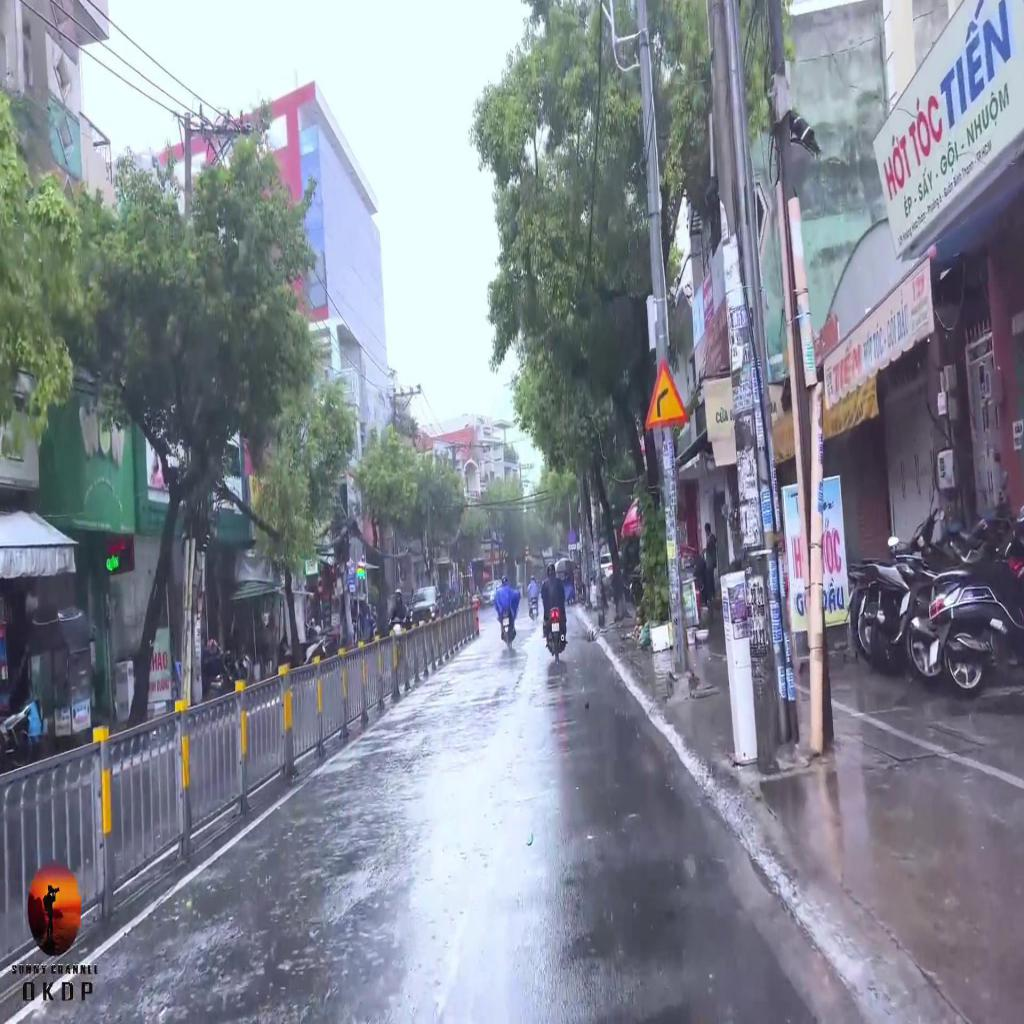cho_ngoat_nguy_hiem_ben_phai: (643, 356, 689, 428)
